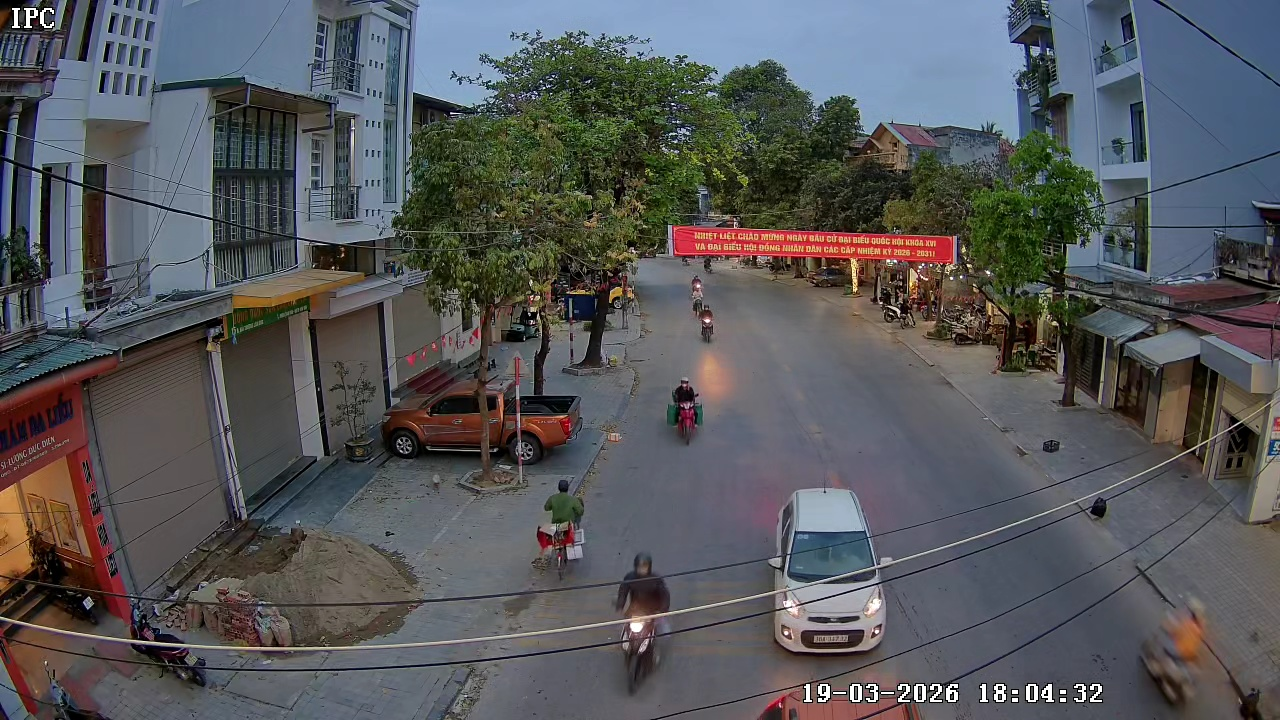bike: (529, 476, 589, 581)
car: (767, 486, 890, 656)
motorbike: (612, 551, 672, 694), (529, 477, 588, 580), (669, 377, 703, 445), (699, 303, 716, 343), (688, 276, 704, 313)
truck: (379, 373, 583, 460)
